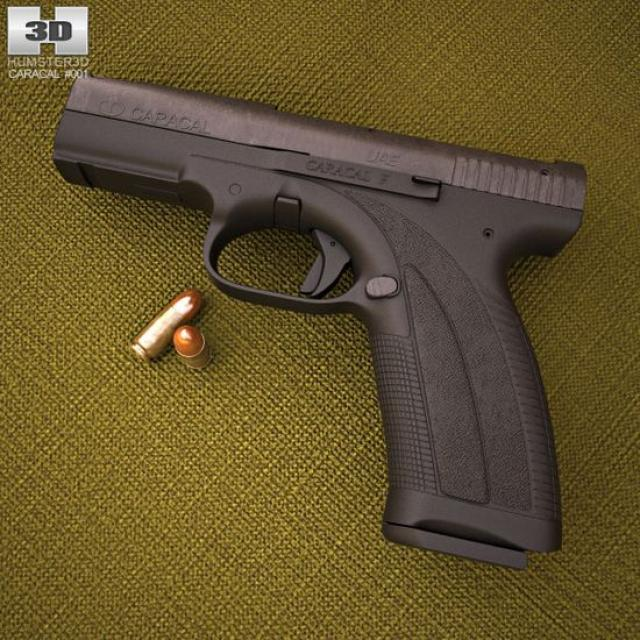Gun: (56, 62, 597, 593)
